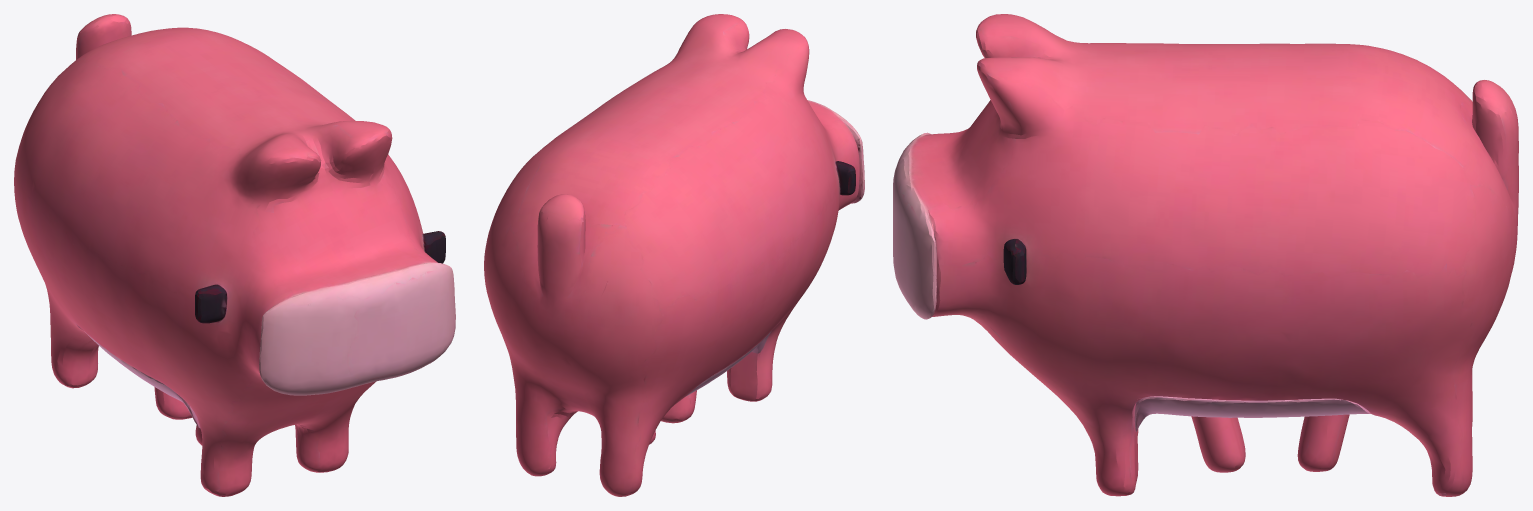
File: pig.glb
The picture shows the model from 3 angles, left to right: view 1: azimuth 30°, elevation 25°; view 2: azimuth 150°, elevation 25°; view 3: azimuth 270°, elevation 25°; orthographic projection. The views are drawn at different scales.
Visible parts, largest first — view 1: Mesh; view 2: Mesh; view 3: Mesh.
Boxes of the visible parts, x1,y1,x2,y2 form: Mesh: (14,14,455,496); Mesh: (484,14,864,496); Mesh: (893,14,1518,496).
Bounding box in the file's own units: 0.58 × 0.7505 × 1.
1 material, 1 textured.
